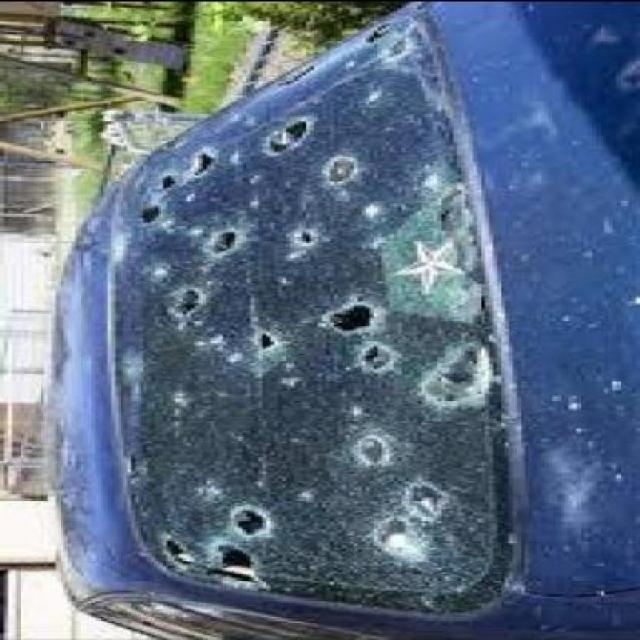damage: (105, 9, 525, 614)
